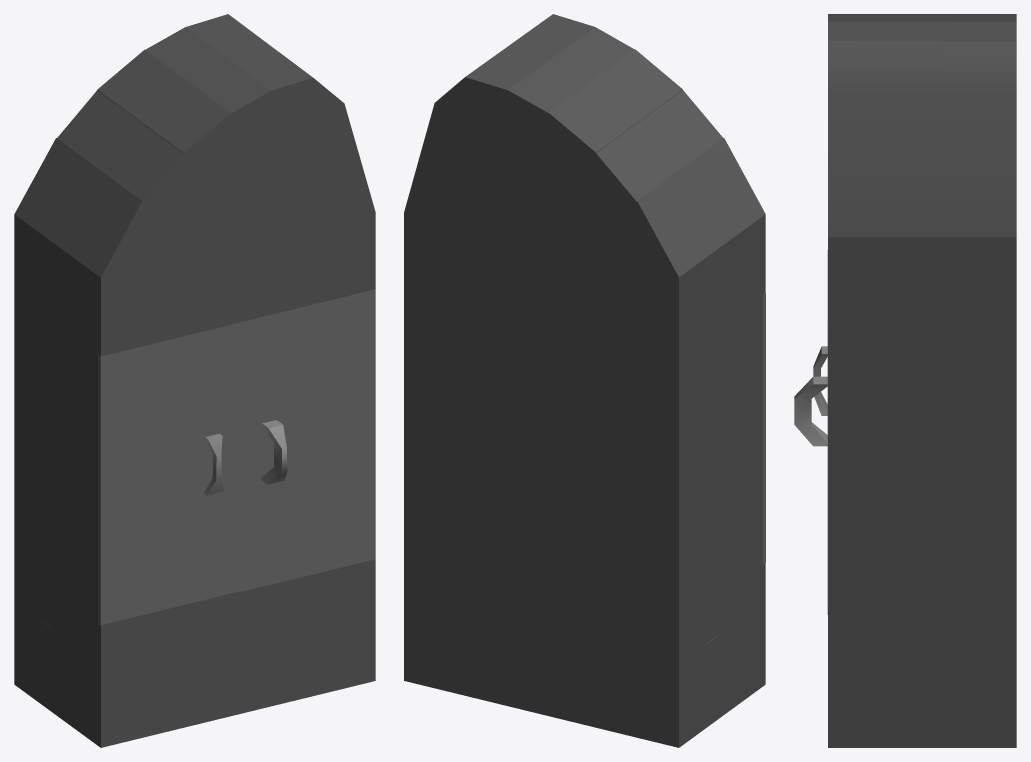
The model's file is Storage Cabinet Textured.fbx.
The picture shows the model from 3 angles, left to right: view 1: azimuth 30°, elevation 25°; view 2: azimuth 150°, elevation 25°; view 3: azimuth 270°, elevation 25°; orthographic projection. The views are drawn at different scales.
Visible parts, largest first — view 1: pCube7, pCube8; view 2: pCube7; view 3: pCube7, pCube8.
Boxes of the visible parts, x1=… form: pCube7: x1=14, y1=14, x2=375, y2=747; pCube8: x1=241, y1=289, x2=375, y2=591; pCube7: x1=404, y1=14, x2=765, y2=747; pCube7: x1=813, y1=14, x2=1016, y2=747; pCube8: x1=794, y1=250, x2=827, y2=614.
Bounding box in the file's own units: 2.97 × 6.37 × 1.9.
1 material, 1 textured.
